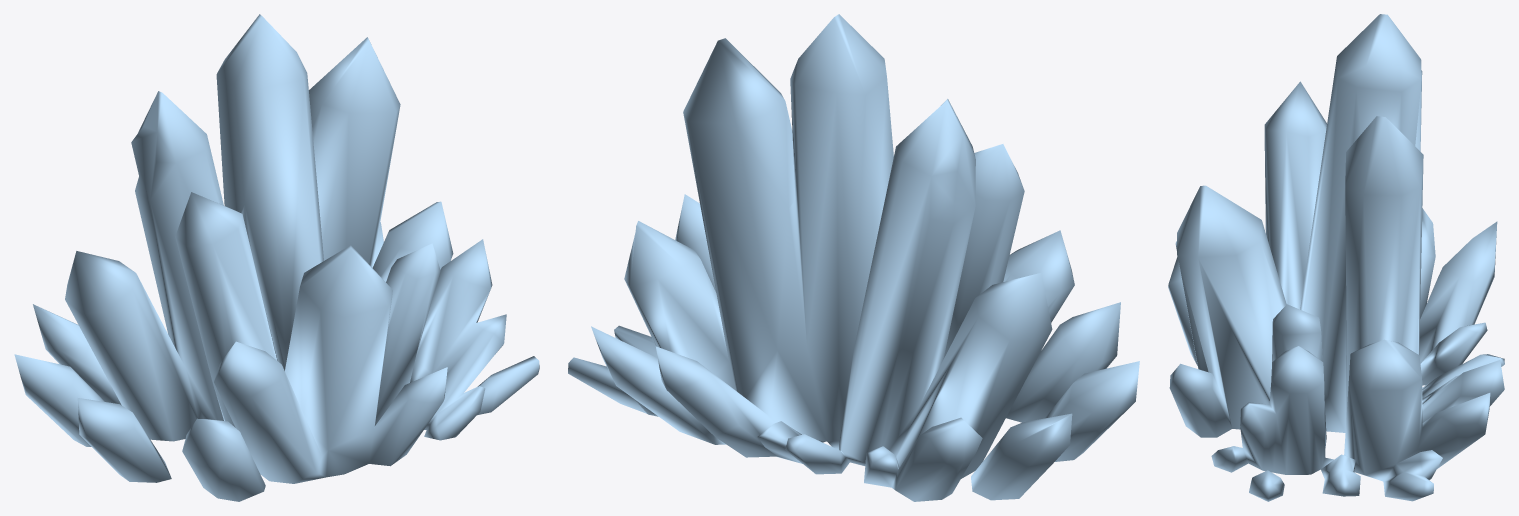
File: crystal-cave.glb
The picture shows the model from 3 angles, left to right: view 1: azimuth 30°, elevation 25°; view 2: azimuth 150°, elevation 25°; view 3: azimuth 270°, elevation 25°; orthographic projection. The views are drawn at different scales.
Visible parts, largest first — view 1: model_0; view 2: model_0; view 3: model_0.
Boxes of the visible parts, <box> form: model_0: <box>14,14,539,501</box>; model_0: <box>568,14,1139,501</box>; model_0: <box>1168,14,1504,501</box>.
Size of the model in its own units: 1.78 by 1.46 by 1.12.
